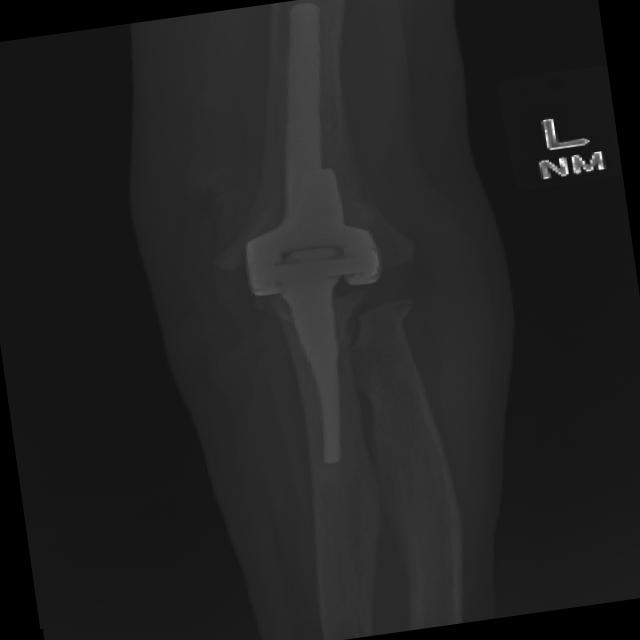elbow positive: (183, 180, 413, 359)
